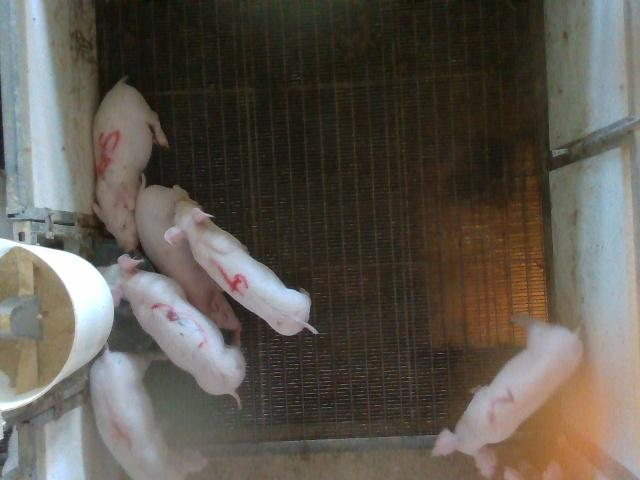pig-1: (90, 349, 180, 479)
pig-2: (432, 319, 582, 477)
pig-3: (99, 254, 245, 404)
pig-4: (165, 201, 318, 334)
pig-5: (92, 78, 169, 251)
